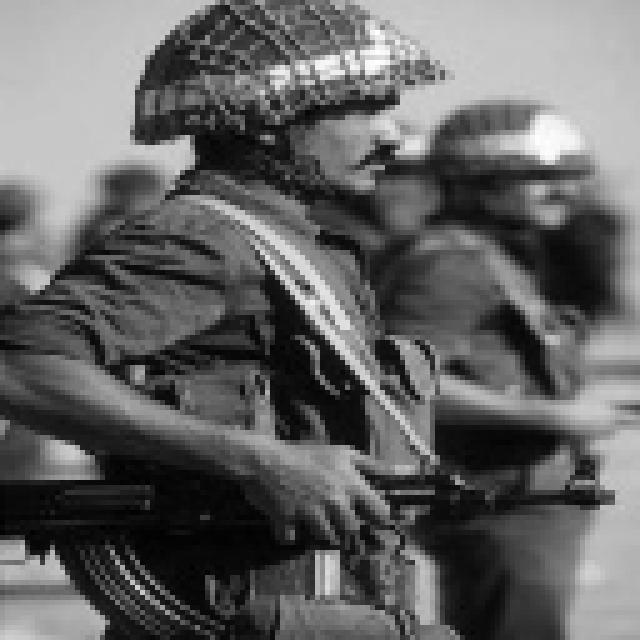Rifle: (0, 344, 630, 618)
